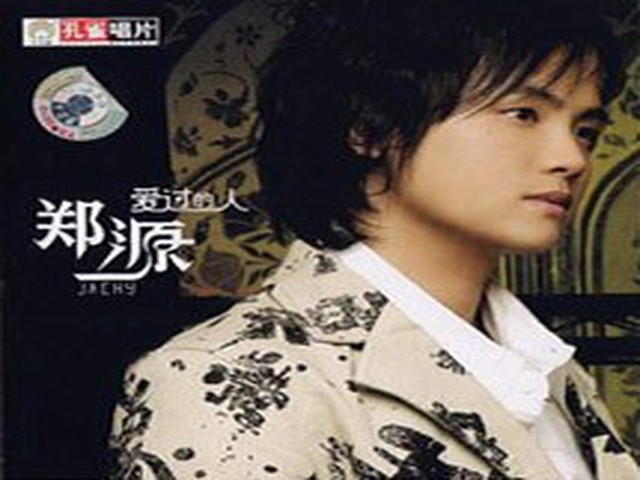Person: (134, 11, 634, 478)
